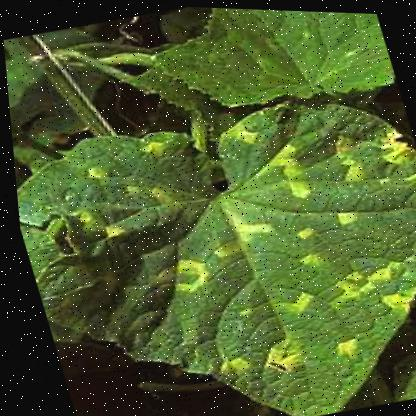DownyMildew: (138, 186, 379, 388), (212, 87, 415, 289)
